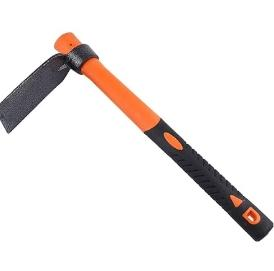HOUE: (0, 18, 274, 250)
